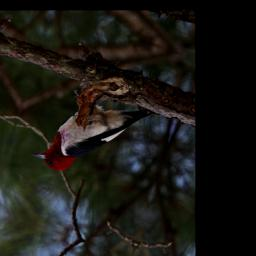Woodpecker: (26, 77, 162, 198)
